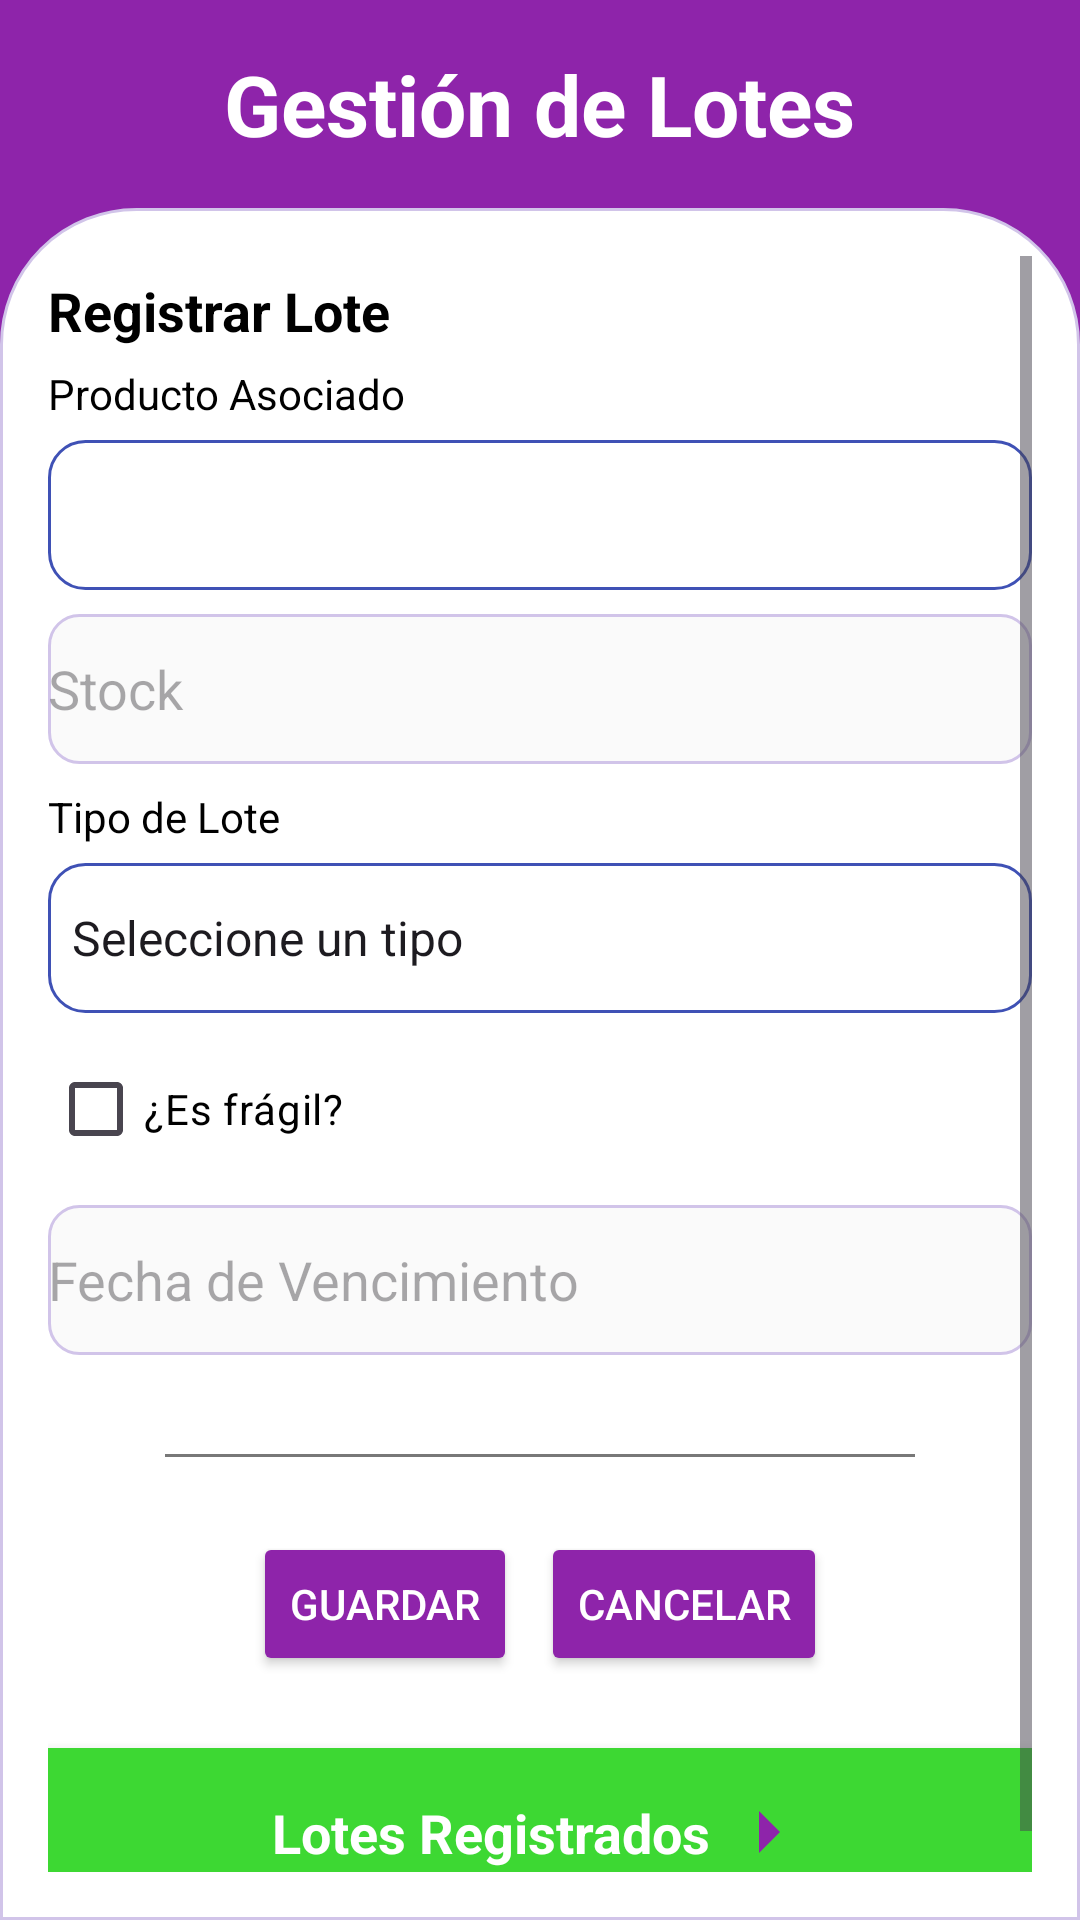

Point at icon controls on the screen. Image size 1080px x 1920px, points as point (x, y).
flecha lotes: point (769, 1832)
